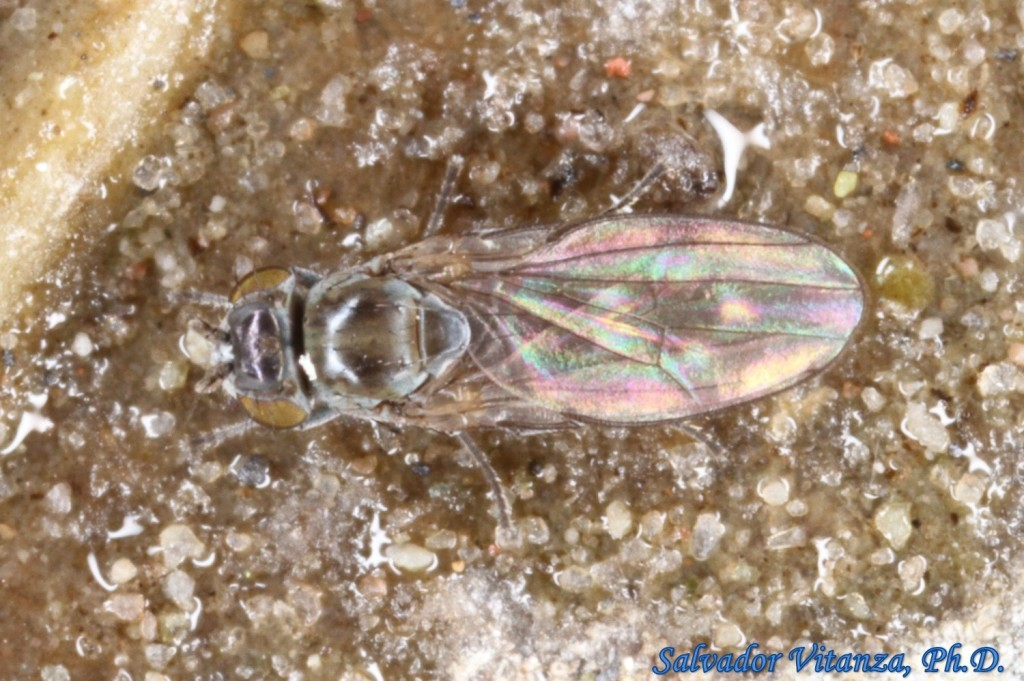Ephydridae: (178, 140, 885, 532)
